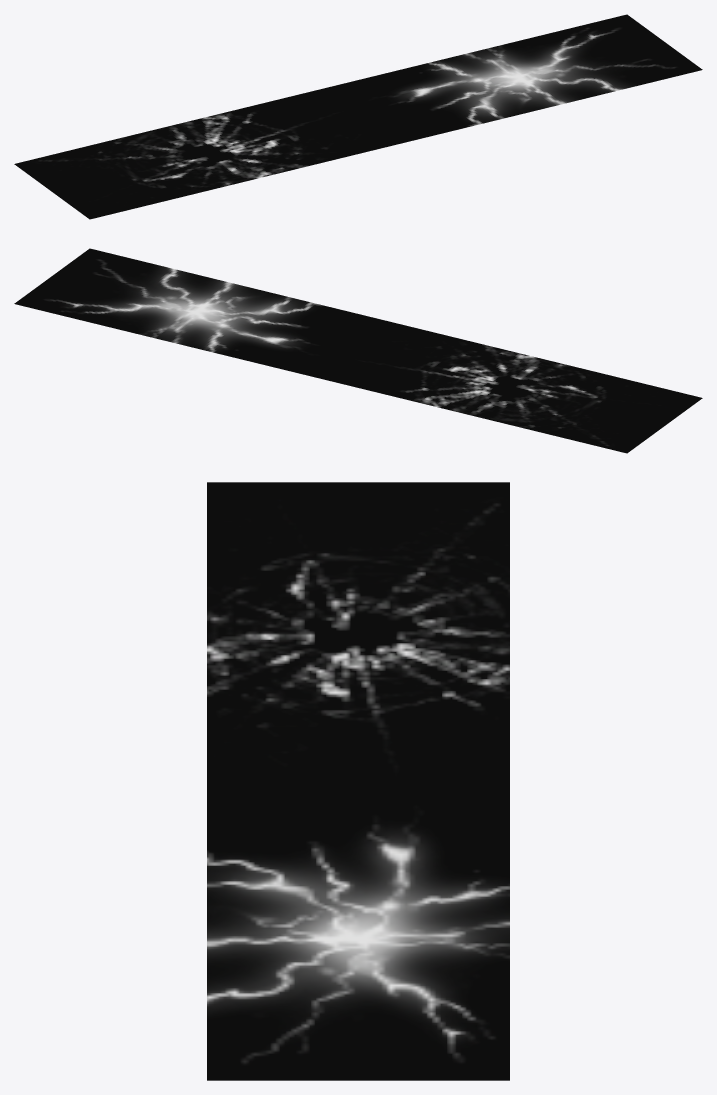
Rendered from dilie.FBX.
3 renders of one model, top to bottom at view 1: azimuth 30°, elevation 25°; view 2: azimuth 150°, elevation 25°; view 3: azimuth 270°, elevation 25°, orthographic. The views are drawn at different scales.
Visible parts, largest first — view 1: Plane001; view 2: Plane001; view 3: Plane001.
Boxes of the visible parts, <box> form: Plane001: <box>14,14,702,219</box>; Plane001: <box>14,248,702,453</box>; Plane001: <box>207,482,509,1080</box>.
Size of the model in its own units: 160 by 2.1e-15 by 34.27.
